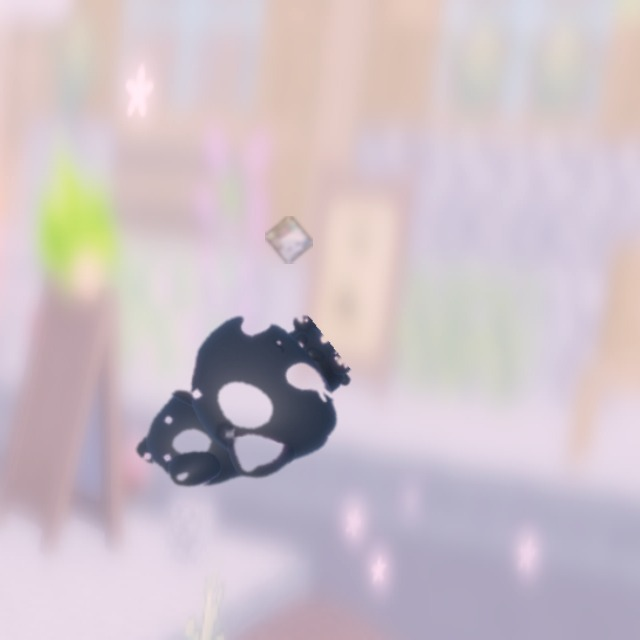urso_branco: (265, 216, 313, 264)
urso_preto: (84, 266, 383, 554), (213, 421, 241, 451)
